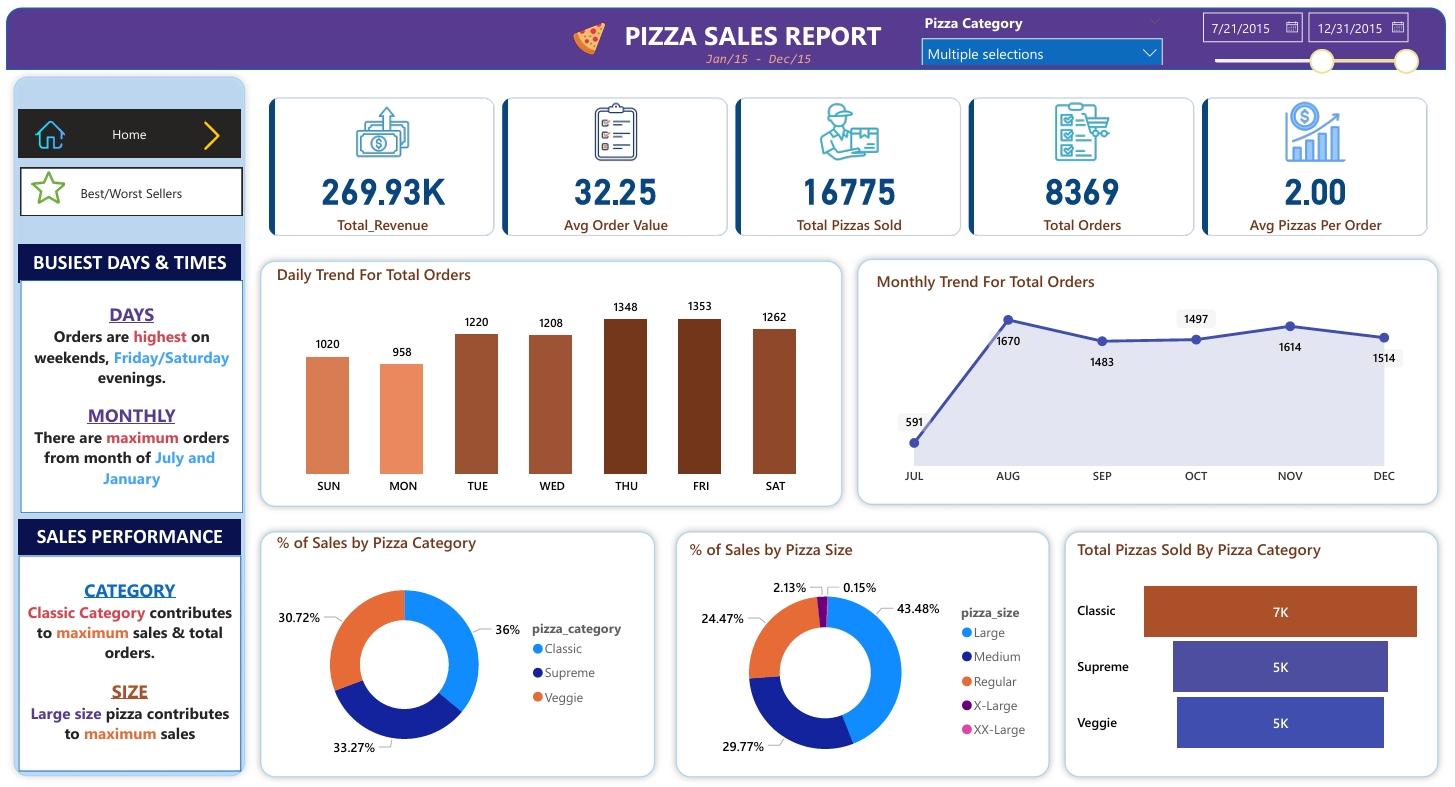

Layout of this report page (visuals, bound fields, positions):
{"tool":"powerbi","page":{"name":"Home","canvas":[1500,820],"ordinal":0},"visuals":[{"type":"cardVisual","fields":{"Data":["pizza_sales.Total_Revenue","pizza_sales.Avg Order Value","pizza_sales.Total Pizzas Sold","pizza_sales.Total Orders","pizza_sales.Avg Pizzas Per Order"]},"box":[257.4,86.9,1242.6,178.7],"z":0},{"type":"shape","box":[0,9.8,1500,65.6],"z":1000},{"type":"textbox","box":[626.7,15.3,302.2,51.5],"z":2000},{"type":"textbox","box":[704.7,48.7,158.8,37.6],"z":3000},{"type":"image","box":[587.7,25.1,39,34.8],"z":4000},{"type":"shape","box":[257.4,265.6,621.3,272.1],"z":5000},{"type":"shape","box":[0,74.3,257.2,744.9],"z":6000},{"type":"columnChart","title":"Daily Trend For Total Orders","fields":{"Category":["pizza_sales.Order Day"],"Y":["pizza_sales.Total Orders"]},"box":[277,277,583.6,249.2],"z":7000},{"type":"shape","box":[878.7,263.9,621.3,272.1],"z":8000},{"type":"areaChart","title":"Monthly Trend For Total Orders","fields":{"Category":["pizza_sales.Order Month"],"Y":["pizza_sales.Total Orders"]},"box":[901.6,283.6,578.7,232.8],"z":9000},{"type":"shape","box":[257.4,547.5,426.2,272.1],"z":10000},{"type":"shape","box":[1095.1,547.5,404.9,272.1],"z":11000},{"type":"shape","box":[690.2,547.5,404.9,272.1],"z":12000},{"type":"donutChart","title":"% of Sales by Pizza Category","fields":{"Category":["pizza_sales.pizza_category"],"Y":["pizza_sales.Total_Revenue"]},"box":[277,555.7,385.2,255.7],"z":13000},{"type":"donutChart","title":"% of Sales by Pizza Size","fields":{"Category":["pizza_sales.pizza_size"],"Y":["pizza_sales.Total_Revenue"]},"box":[706.6,563.9,373.8,255.7],"z":14000},{"type":"funnel","title":"Total Pizzas Sold By Pizza Category","fields":{"Category":["pizza_sales.pizza_category"],"Y":["pizza_sales.Total Pizzas Sold"]},"box":[1111.5,563.9,368.9,242.6],"z":15000},{"type":"textbox","box":[13.4,257.2,232,40.1],"z":16000},{"type":"textbox","box":[14.9,294.4,232,242.4],"z":17000},{"type":"textbox","box":[13.4,542.7,232,41.6],"z":18000},{"type":"textbox","box":[13.4,581.4,232,224.5],"z":19000},{"type":"slicer","fields":{"Values":["pizza_sales.pizza_category"]},"box":[944.3,9.8,270.5,59],"z":20000},{"type":"slicer","fields":{"Values":["pizza_sales.order_date"]},"box":[1234.4,4.9,245.9,86.9],"z":21000},{"type":"pageNavigator","box":[13.4,116,232,50.6],"z":21001},{"type":"pageNavigator","box":[14.9,176.9,232,50.6],"z":21002},{"type":"image","box":[199.2,121.9,31.2,41.6],"z":21003},{"type":"image","box":[31.2,108.5,31.2,66.9],"z":21004},{"type":"image","box":[26.8,166.5,35.7,61],"z":21005}]}

Visuals, with their boxes in screenshot pixels (x1, y1, x2, y2), scaled from the page's 1500x820 canvas onto the 1455x787 screenshot:
cardVisual - pizza_sales.Total_Revenue x pizza_sales.Avg Order Value: x1=250, y1=83, x2=1454, y2=255
shape: x1=0, y1=9, x2=1454, y2=72
textbox: x1=608, y1=15, x2=901, y2=64
textbox: x1=684, y1=47, x2=838, y2=83
image: x1=570, y1=24, x2=608, y2=57
shape: x1=250, y1=255, x2=852, y2=516
shape: x1=0, y1=71, x2=249, y2=786
"Daily Trend For Total Orders" columnChart: x1=269, y1=266, x2=835, y2=505
shape: x1=852, y1=253, x2=1454, y2=514
"Monthly Trend For Total Orders" areaChart: x1=875, y1=272, x2=1436, y2=496
shape: x1=250, y1=525, x2=663, y2=786
shape: x1=1062, y1=525, x2=1454, y2=786
shape: x1=669, y1=525, x2=1062, y2=786
"% of Sales by Pizza Category" donutChart: x1=269, y1=533, x2=642, y2=779
"% of Sales by Pizza Size" donutChart: x1=685, y1=541, x2=1048, y2=786
"Total Pizzas Sold By Pizza Category" funnel: x1=1078, y1=541, x2=1436, y2=774
textbox: x1=13, y1=247, x2=238, y2=285
textbox: x1=14, y1=283, x2=239, y2=515
textbox: x1=13, y1=521, x2=238, y2=561
textbox: x1=13, y1=558, x2=238, y2=773
slicer - pizza_sales.pizza_category: x1=916, y1=9, x2=1178, y2=66
slicer - pizza_sales.order_date: x1=1197, y1=5, x2=1436, y2=88
pageNavigator: x1=13, y1=111, x2=238, y2=160
pageNavigator: x1=14, y1=170, x2=239, y2=218
image: x1=193, y1=117, x2=223, y2=157
image: x1=30, y1=104, x2=61, y2=168
image: x1=26, y1=160, x2=61, y2=218
